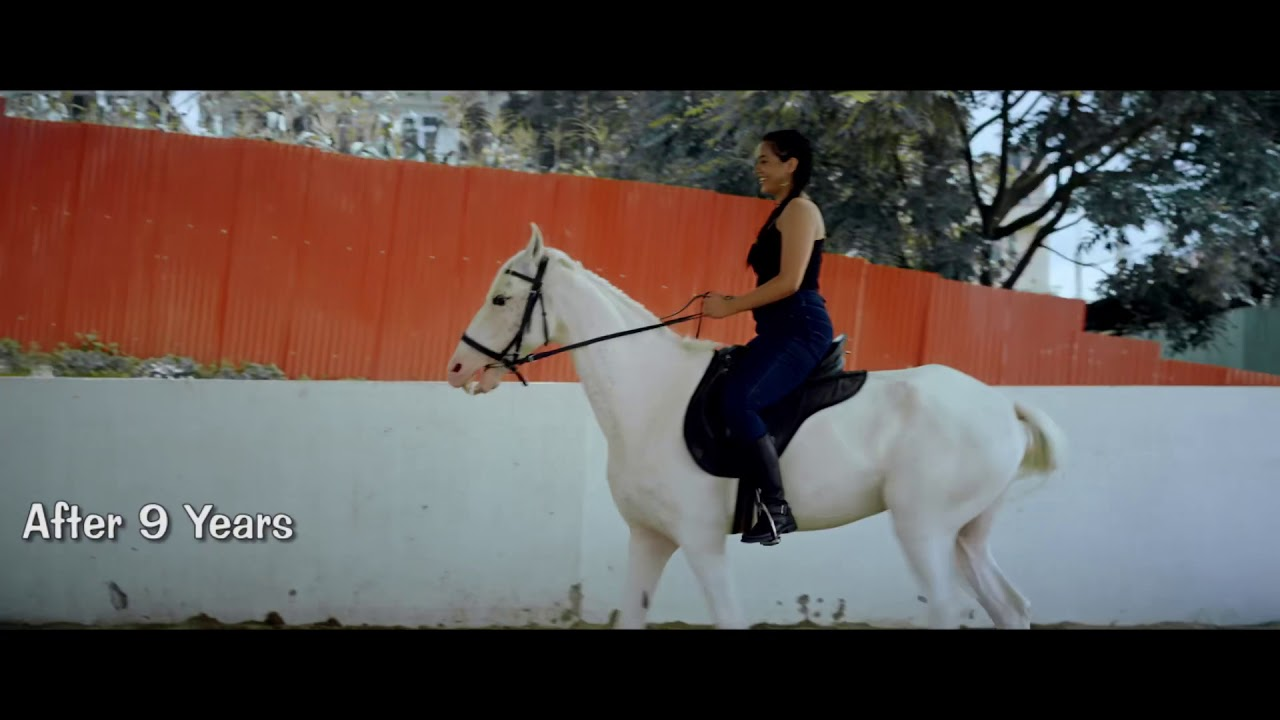equine: (429, 212, 1072, 631)
human: (669, 119, 906, 561)
